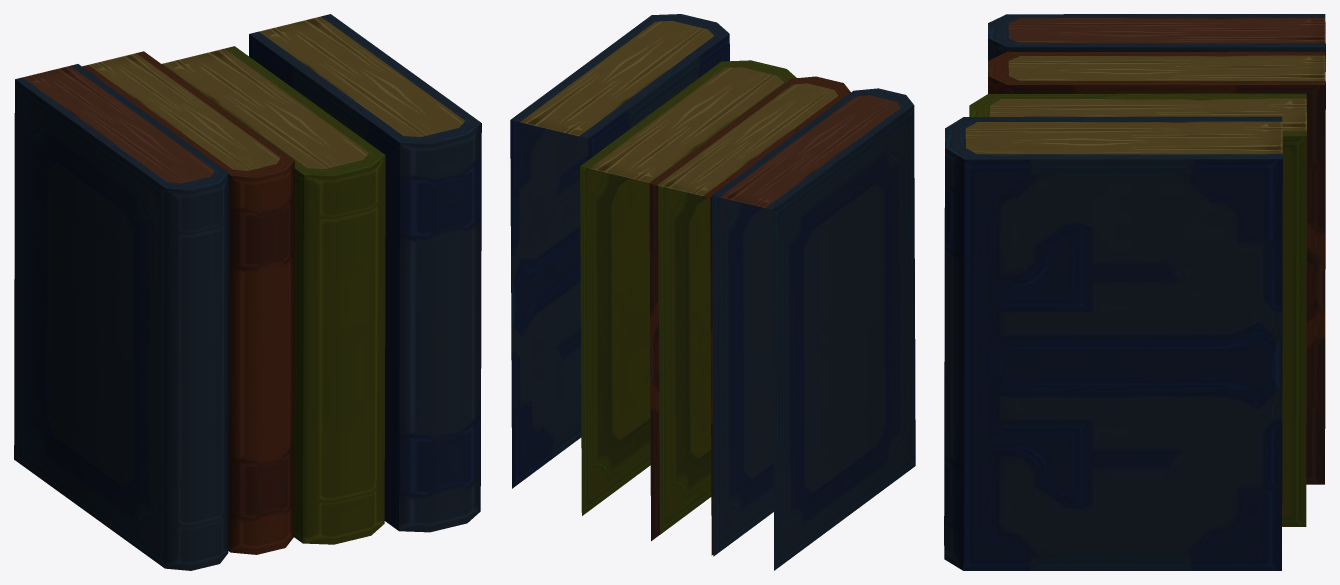
File: BookGroup_Small_2.gltf
3 renders of one model, left to right at view 1: azimuth 30°, elevation 25°; view 2: azimuth 150°, elevation 25°; view 3: azimuth 270°, elevation 25°, orthographic. The views are drawn at different scales.
Visible parts, largest first — view 1: BookGroup_Small_2; view 2: BookGroup_Small_2; view 3: BookGroup_Small_2.
Boxes of the visible parts, <box> form: BookGroup_Small_2: <box>14,14,481,570</box>; BookGroup_Small_2: <box>510,14,915,570</box>; BookGroup_Small_2: <box>944,14,1325,570</box>.
Bounding box in the file's own units: 0.2275 × 0.2831 × 0.2373.
1 material, 1 textured.
